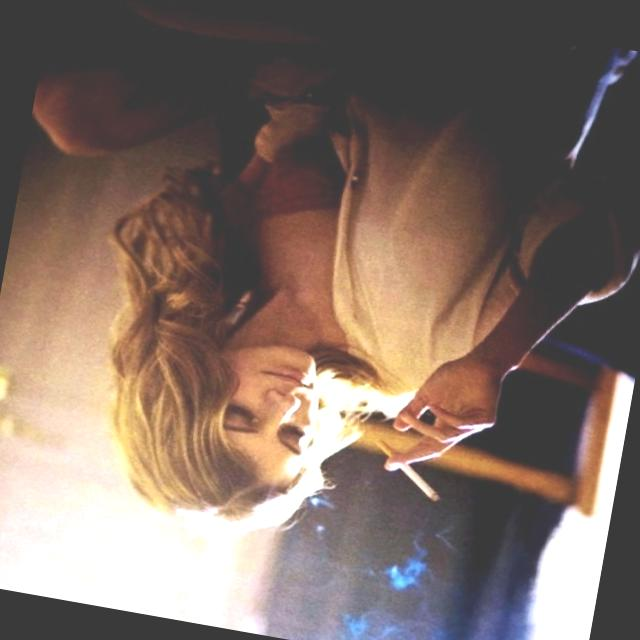cigarette: (390, 460, 446, 507)
